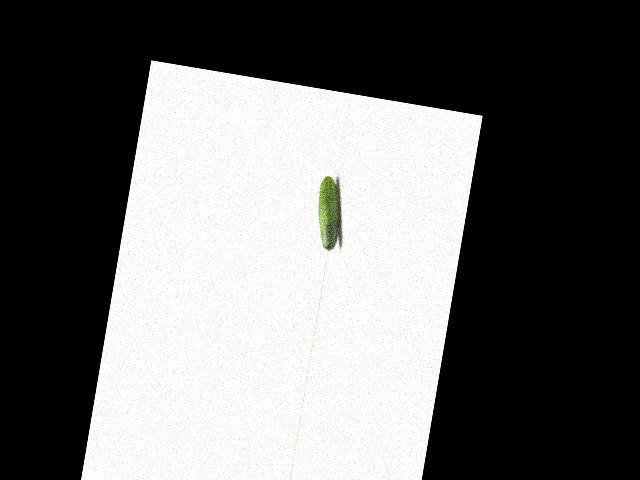cucumber: (310, 175, 347, 252)
